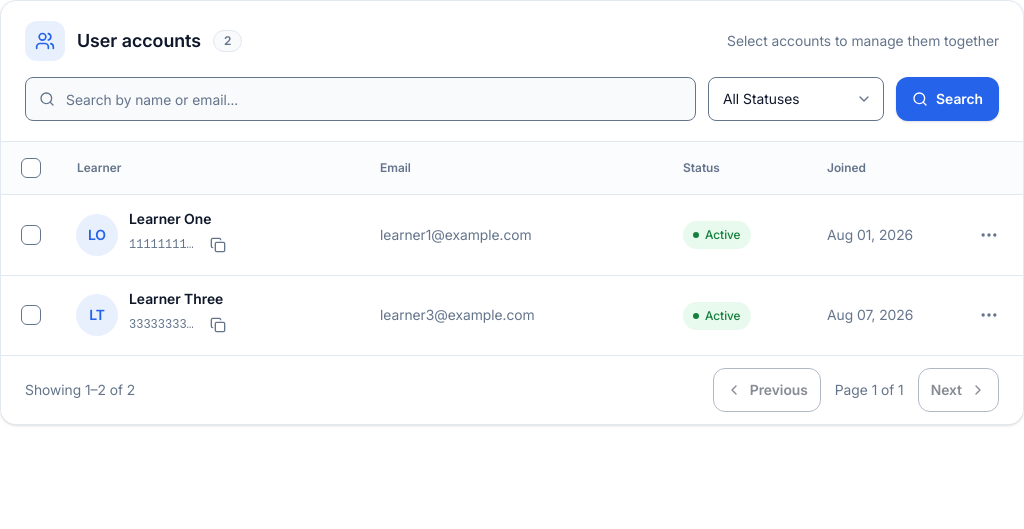
Test: Admin Shell & Operations › marks partial selection and toggles the whole page without performing a mutation
The image size is (1024, 529).
What coordinates should you click on to do the following:
click the checkbox named "Select this account"
I would click on:
 (31, 235)
Its box is [21,225,41,245].
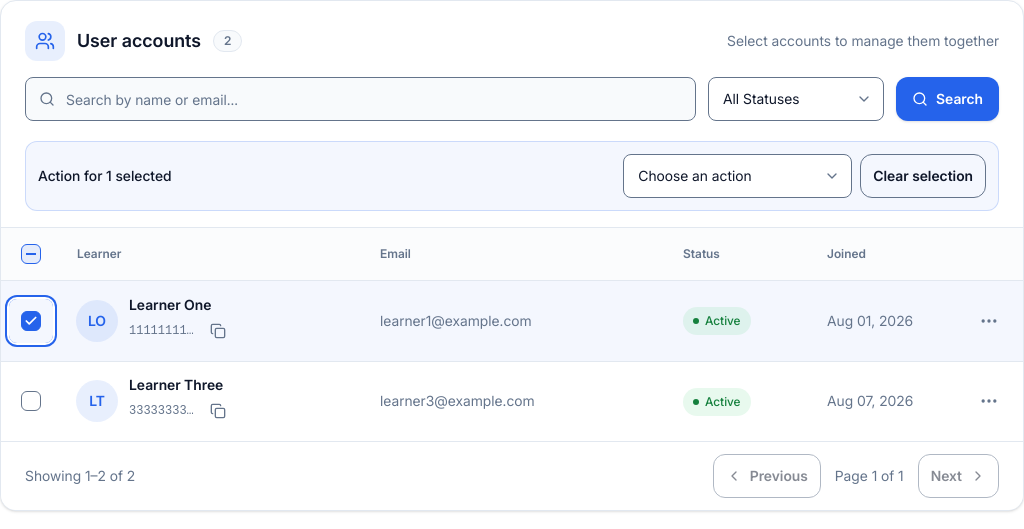
What coordinates should you click on to do the following:
click the checkbox named "Select accounts on this page"
I would click on:
 (31, 254)
Its box is [21,244,41,264].
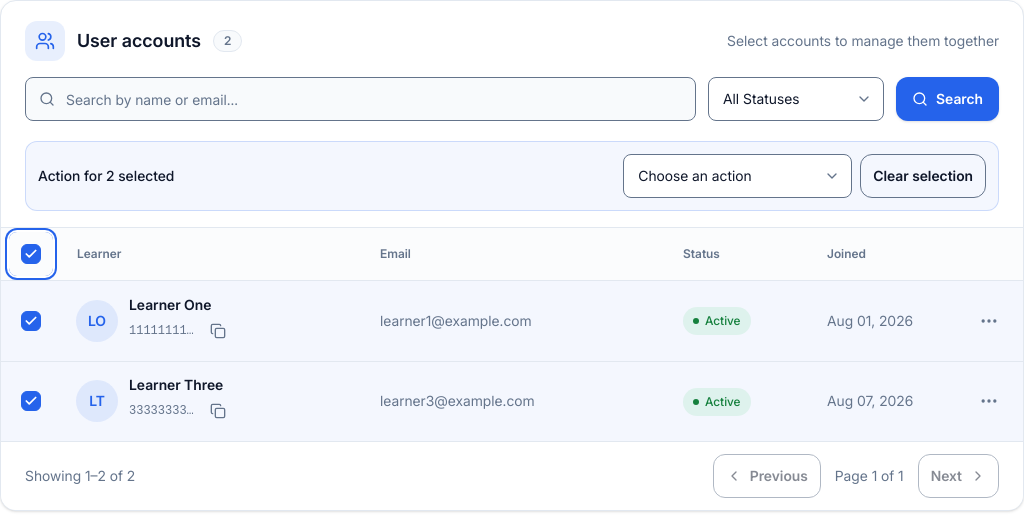
Check: the text "Action for 2 selected" is shown, box [38,166,174,186]
What coordinates should you click on to do the following:
click the checkbox named "Select accounts on this page"
I would click on:
 (31, 254)
Its box is [9,232,53,276].
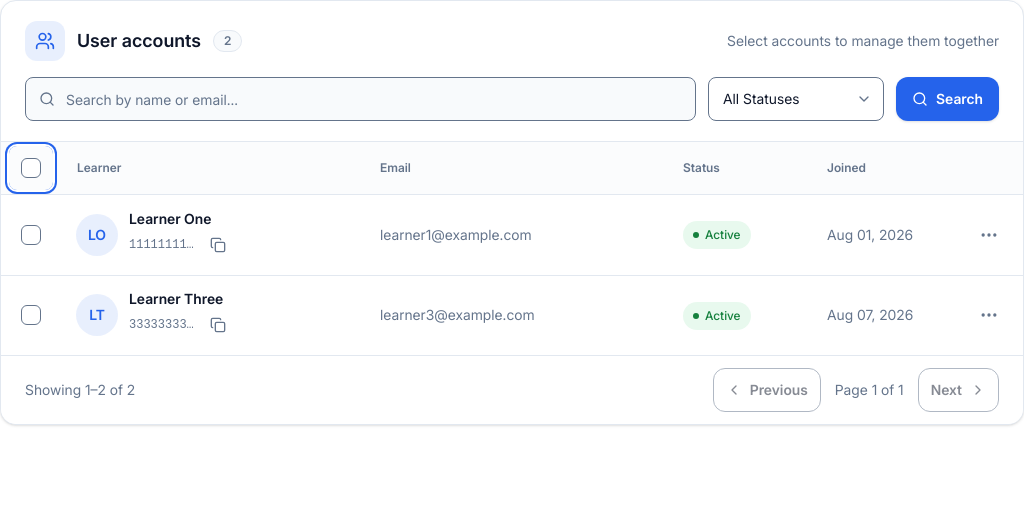
Check: the text "Action for 2 selected" is gone
